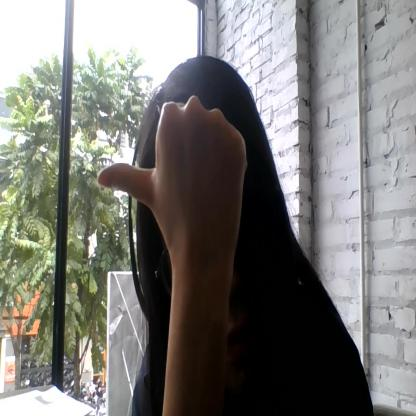right: (96, 93, 247, 253)
